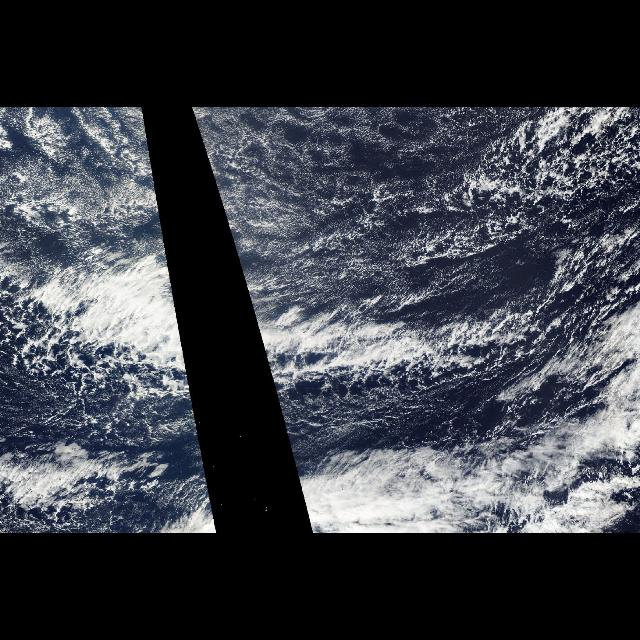Fish: (236, 253, 564, 409), (16, 253, 194, 409)
Gravel: (478, 108, 640, 384)
Sugar: (191, 108, 494, 264), (23, 108, 171, 264)
